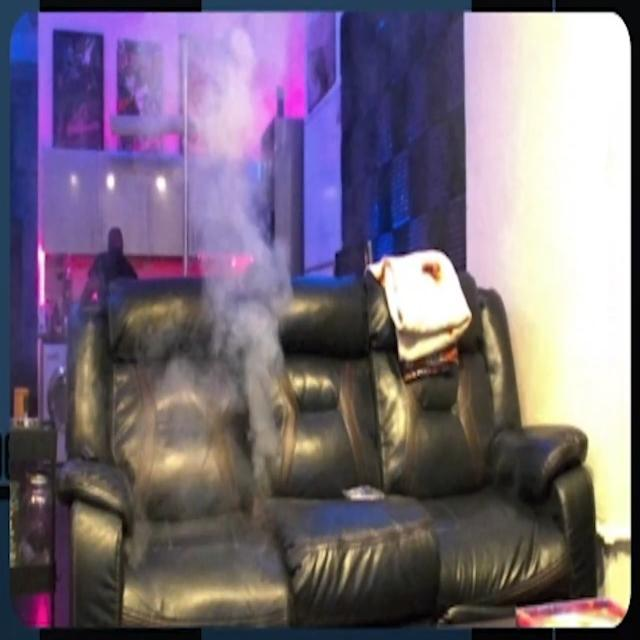Smoke: (192, 42, 296, 504)
